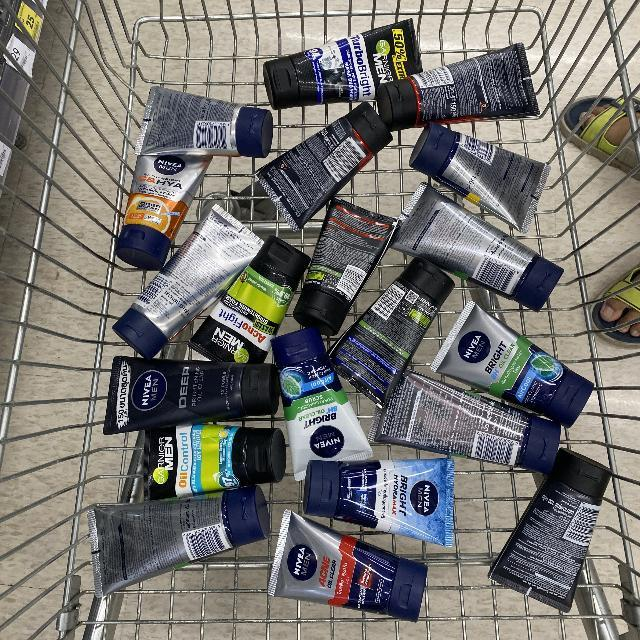Squeeze Tube: (97, 7, 633, 640)
